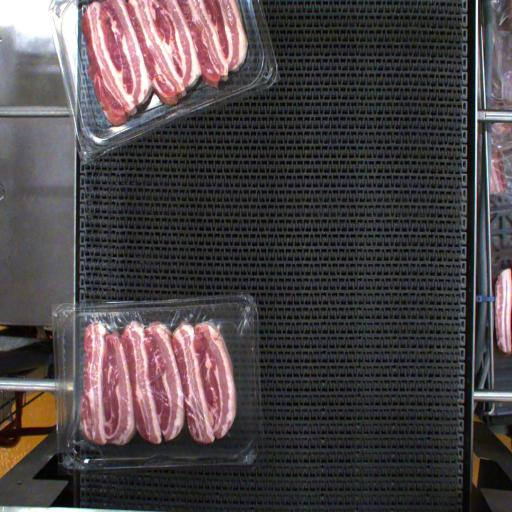unsealed: (56, 304, 249, 459)
